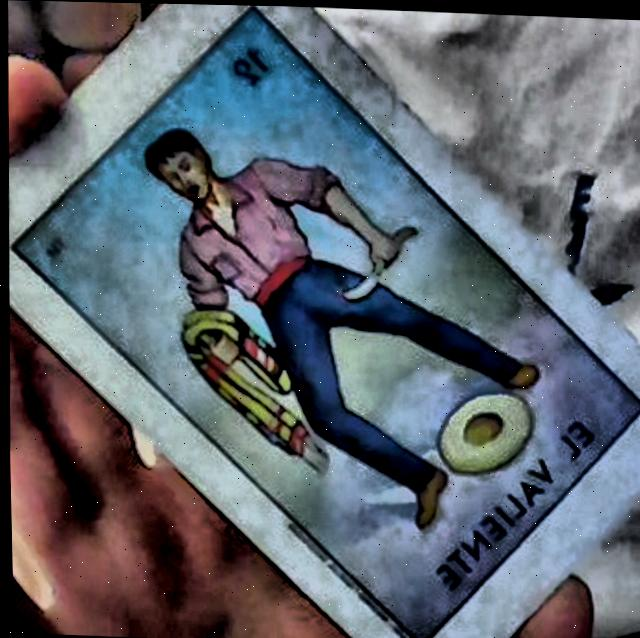El Valiente: (9, 7, 635, 638)
